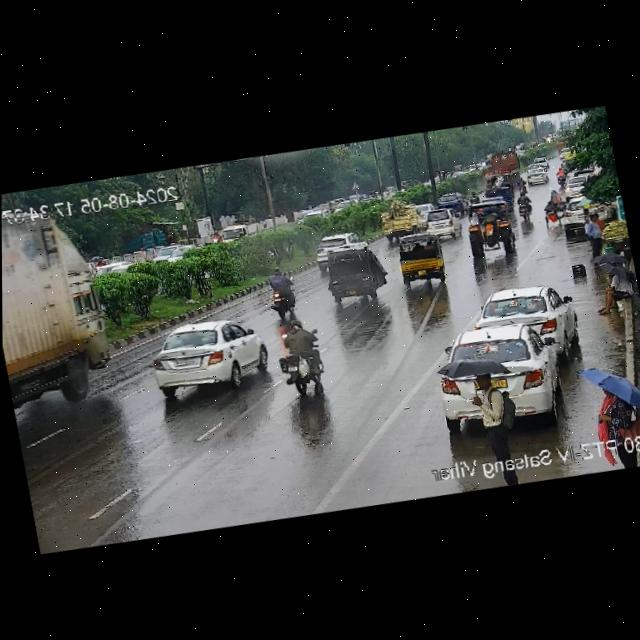car: (428, 315, 569, 436), (138, 311, 272, 405), (469, 277, 580, 365), (311, 240, 389, 311), (309, 224, 374, 275), (392, 231, 447, 284), (557, 187, 615, 237), (421, 206, 462, 241), (433, 186, 470, 218), (521, 166, 548, 187)
motorcycle: (271, 313, 331, 401), (258, 264, 304, 322), (512, 193, 535, 224), (552, 160, 571, 187)
person: (442, 352, 524, 460), (575, 350, 640, 441), (590, 245, 639, 314), (578, 209, 609, 256)
truck: (1, 195, 120, 412), (475, 143, 520, 179), (209, 229, 222, 244)
